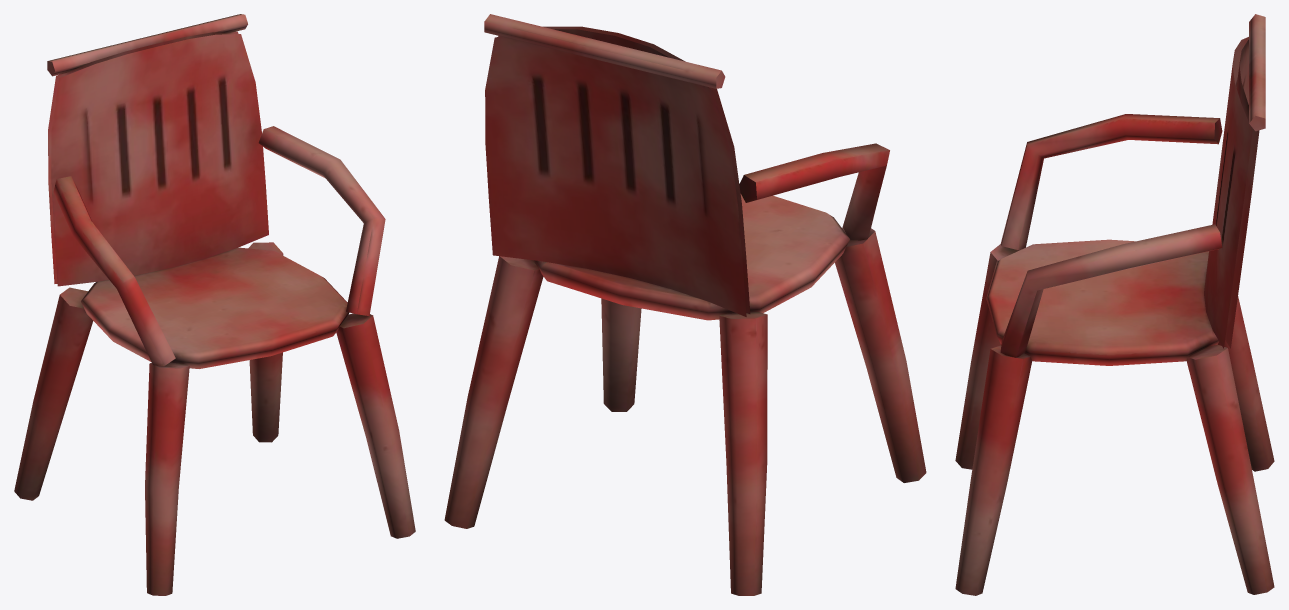
The model's file is plastic_chair.glb.
The picture shows the model from 3 angles, left to right: view 1: azimuth 30°, elevation 25°; view 2: azimuth 150°, elevation 25°; view 3: azimuth 270°, elevation 25°; orthographic projection. The views are drawn at different scales.
Parts seen in each view (by area): view 1: body; view 2: body; view 3: body.
Boxes of the visible parts, x1,y1,x2,y2 form: body: (14,14,415,595); body: (444,14,926,595); body: (955,14,1274,595).
Size of the model in its own units: 0.5821 by 0.8955 by 0.5571.
Materials: 1 (1 with a texture image).
